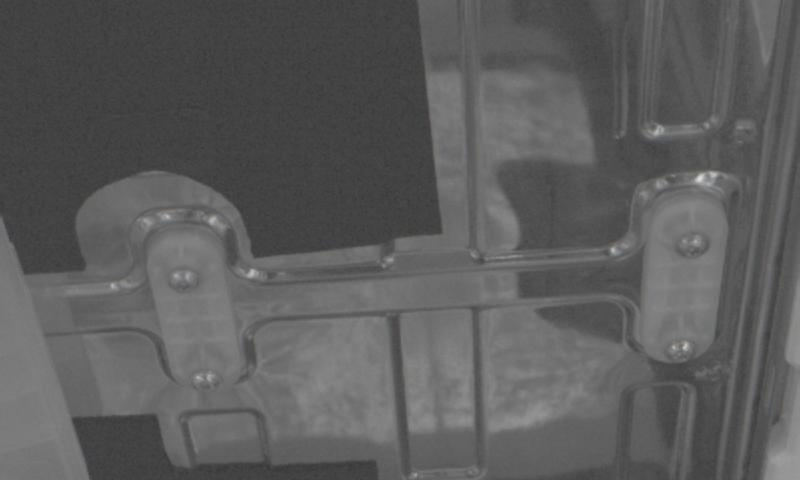vida-ok: (159, 255, 205, 299), (669, 226, 716, 269), (183, 363, 228, 403), (658, 332, 704, 371)
